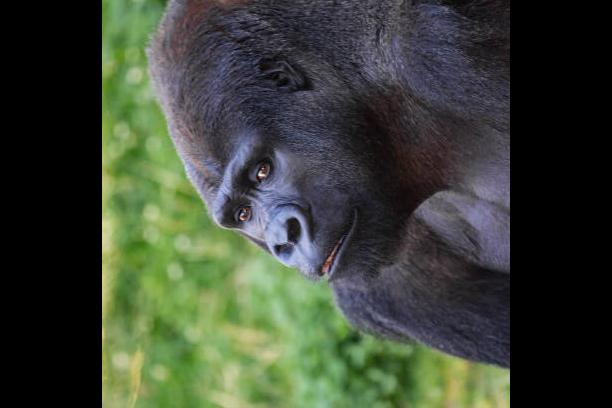gorille_Autres: (130, 0, 505, 357)
